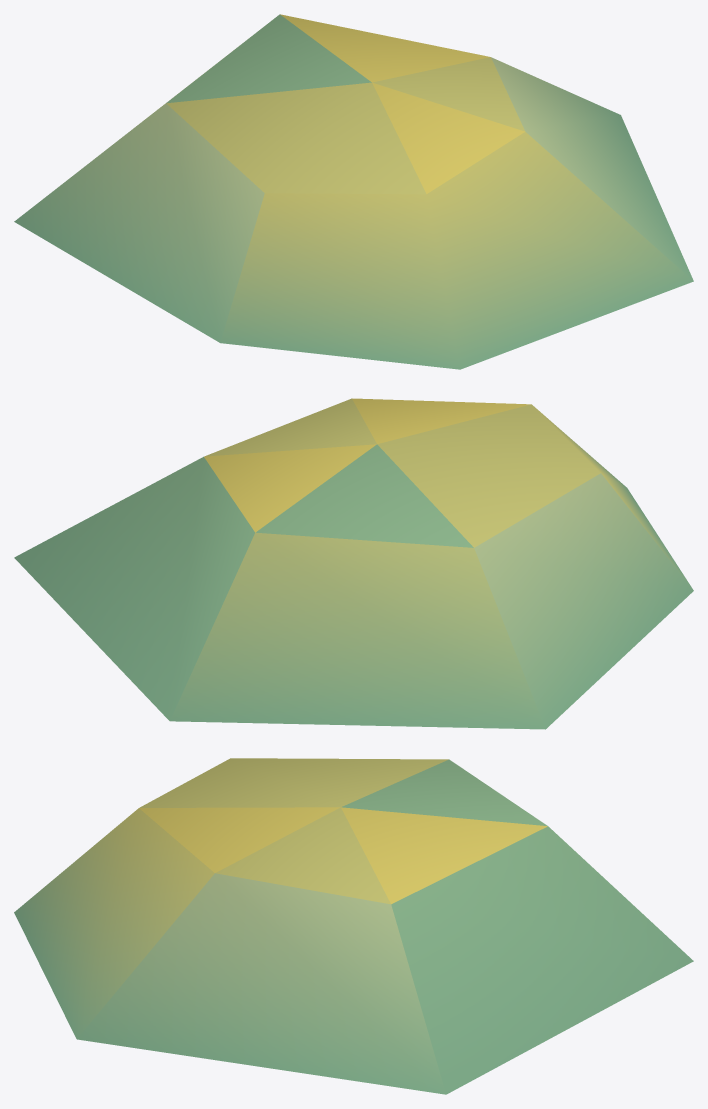
Rendered from kingcup_patch_a_far.glb.
The picture shows the model from 3 angles, top to bottom: view 1: azimuth 30°, elevation 25°; view 2: azimuth 150°, elevation 25°; view 3: azimuth 270°, elevation 25°; orthographic projection. The views are drawn at different scales.
Visible parts, largest first — view 1: soft; view 2: soft; view 3: soft.
Boxes of the visible parts, left/top/right/bottom form: soft: left=14, top=14, right=693, bottom=369; soft: left=14, top=398, right=693, bottom=729; soft: left=14, top=758, right=693, bottom=1094.
Bounding box in the file's own units: 0.6079 × 0.15 × 0.6476.
